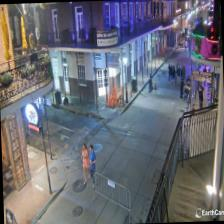person: (80, 142, 90, 184), (88, 144, 96, 188)
